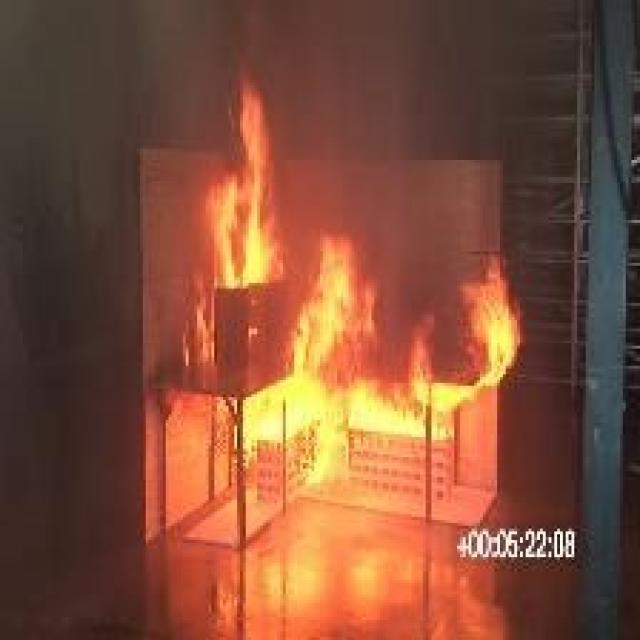fire: (129, 17, 514, 569)
